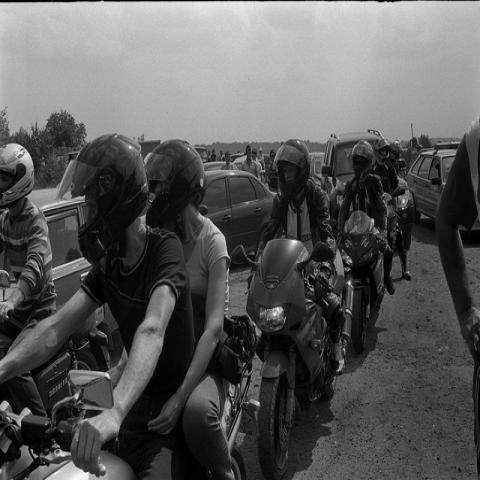car: (321, 129, 413, 249), (198, 169, 279, 260), (36, 196, 93, 313), (408, 149, 456, 222), (27, 150, 80, 208), (214, 144, 262, 171), (309, 152, 326, 187), (195, 147, 208, 163), (204, 161, 225, 169)
motorcycle: (0, 364, 261, 479), (230, 234, 353, 474), (28, 300, 125, 418), (330, 209, 390, 355), (382, 180, 404, 246)
